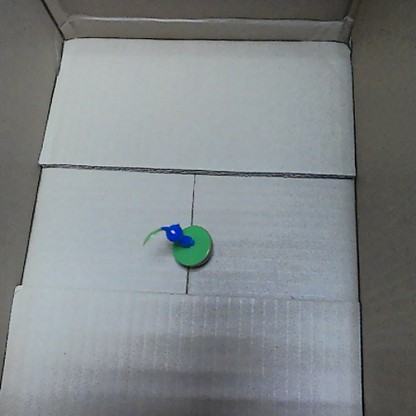leafairy: (138, 213, 215, 269)
